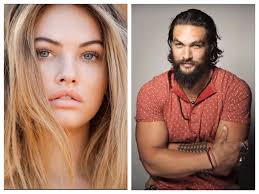no_mask: (19, 5, 114, 139), (163, 8, 215, 85)
